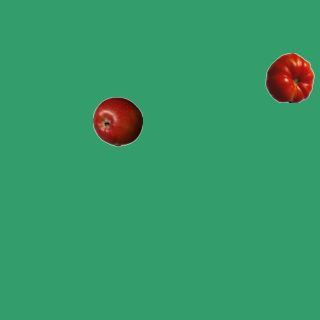Apple Braeburn: (92, 96, 142, 146)
Tomato 3: (264, 52, 314, 102)
